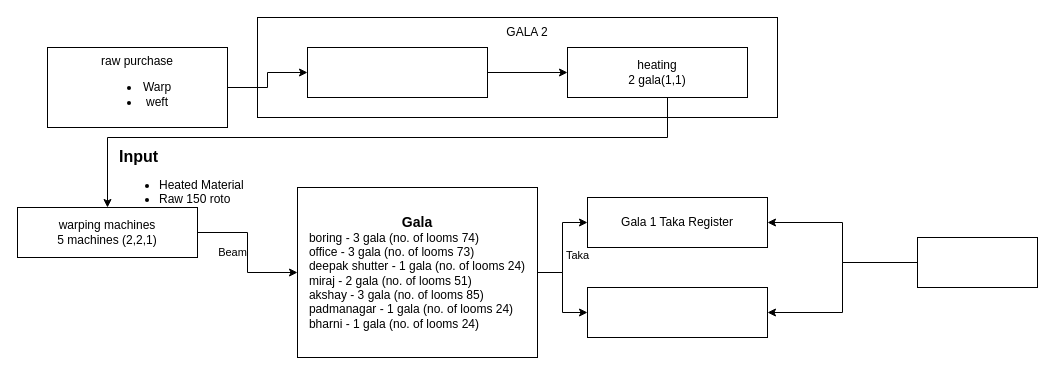
Image size: 1055x375. Some labels were removed from this diagram. The centre of each missing label's shape, as x and y in pixels:
Chalan: (977,262)
Gala n Taka Register: (677,312)
Twisting Machines 10 machines - 2 gala(6, 4): (397,72)
